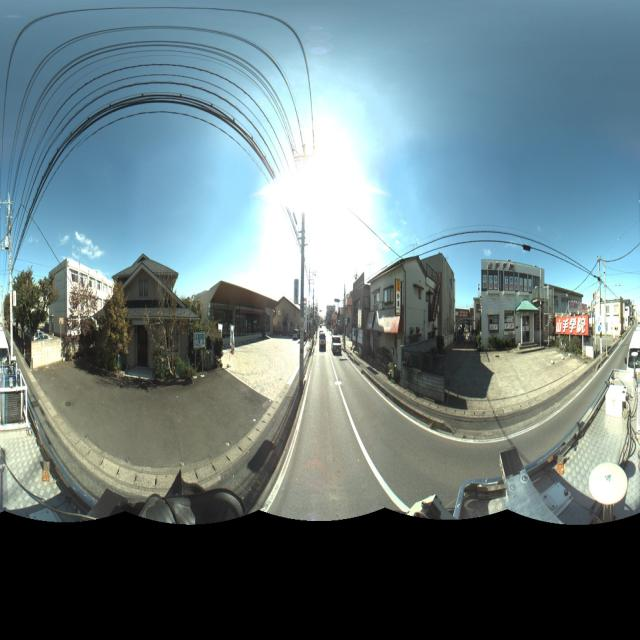b_1: (477, 248, 544, 356), (366, 260, 429, 370), (428, 246, 466, 364), (53, 258, 110, 328), (588, 287, 632, 348), (272, 290, 311, 346)
b_2: (109, 250, 187, 387)
